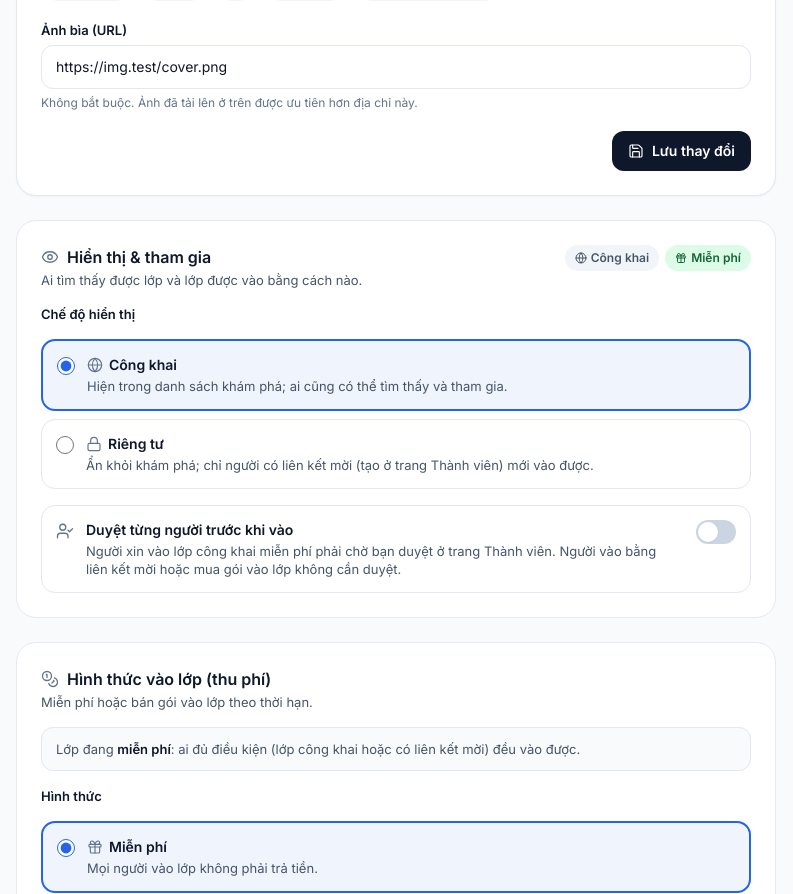
Test case: StudioSettings - visibility (Hiển thị & tham gia) › "Hủy" puts the radio back and sends nothing
This screenshot has width=793, height=894.
(page scrolled)
Step 1. Click the radio button labelled "Riêng tư" → (65, 445), box [56, 436, 74, 454]
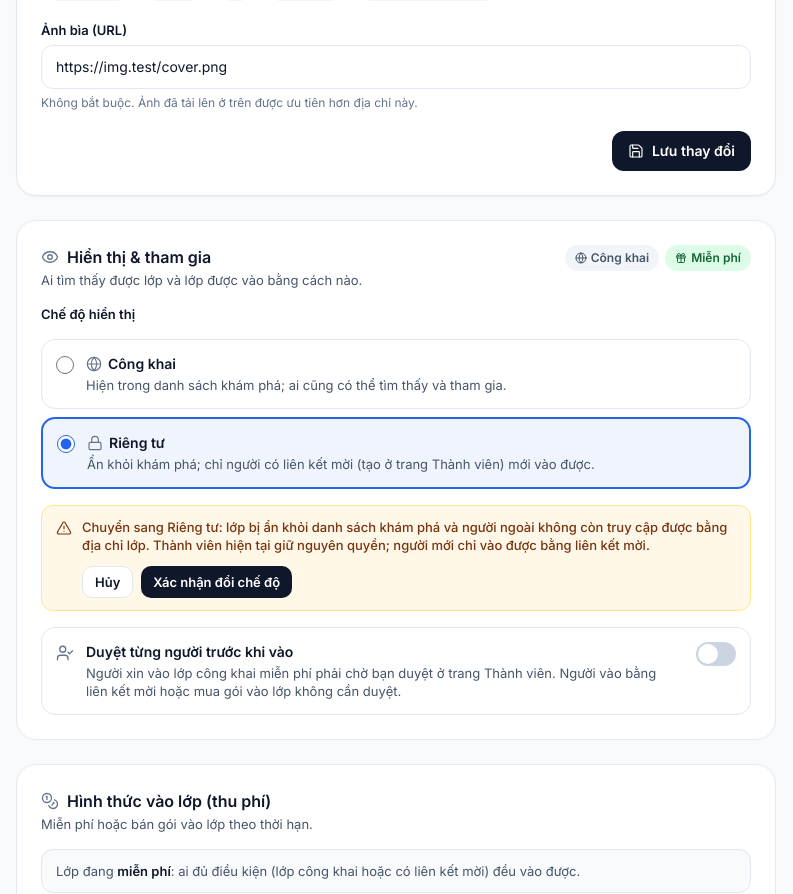
Step 2. Click the button "Hủy" → (108, 582), box [82, 566, 133, 598]
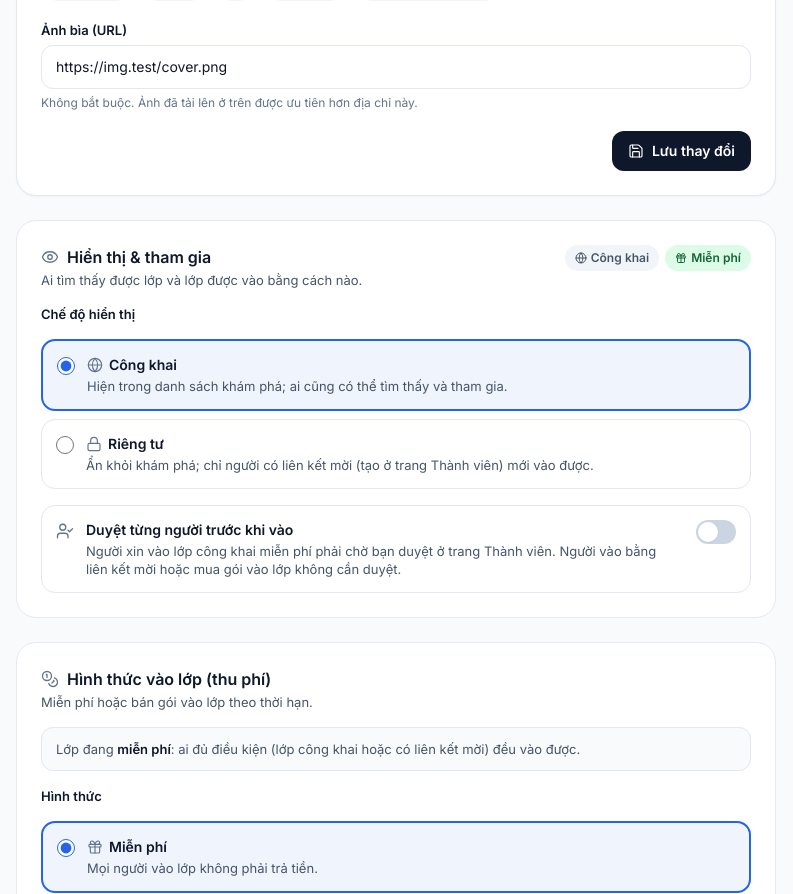
Check: the radio button labelled "Công khai" is checked, box [57, 357, 75, 375]
